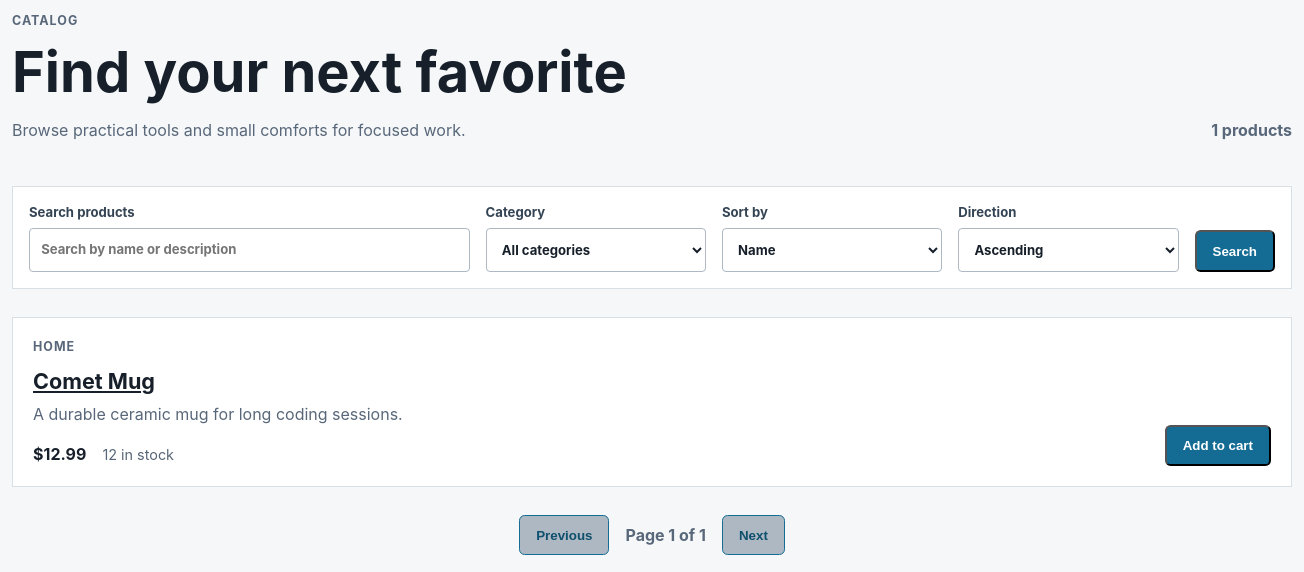
Test: cart and checkout › distinguishes an unauthorized cart mutation from a stock conflict
The width and height of the screenshot is (1304, 572).
Click the button "Add to cart": [1218, 446] box 1165,425 -> 1271,466
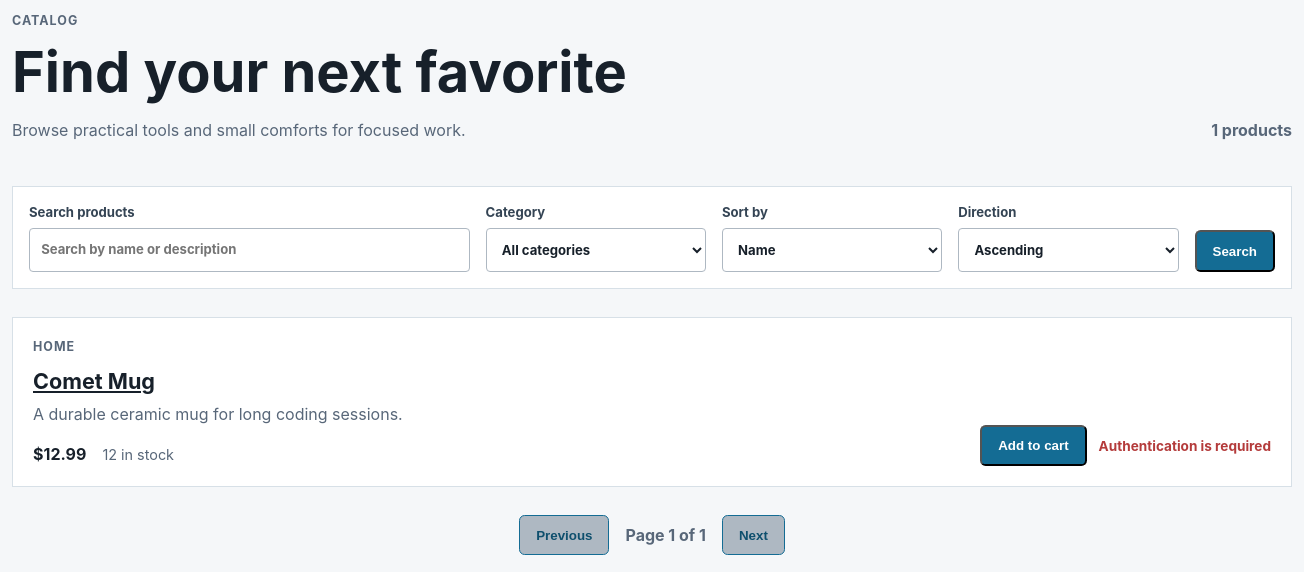
Check: the message reads "Authentication is required", box 1099,438 -> 1271,454
